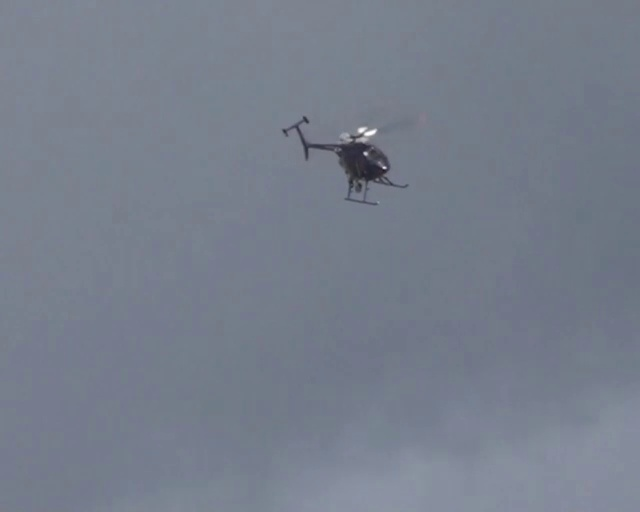HELICOPTER: (281, 114, 410, 206)
